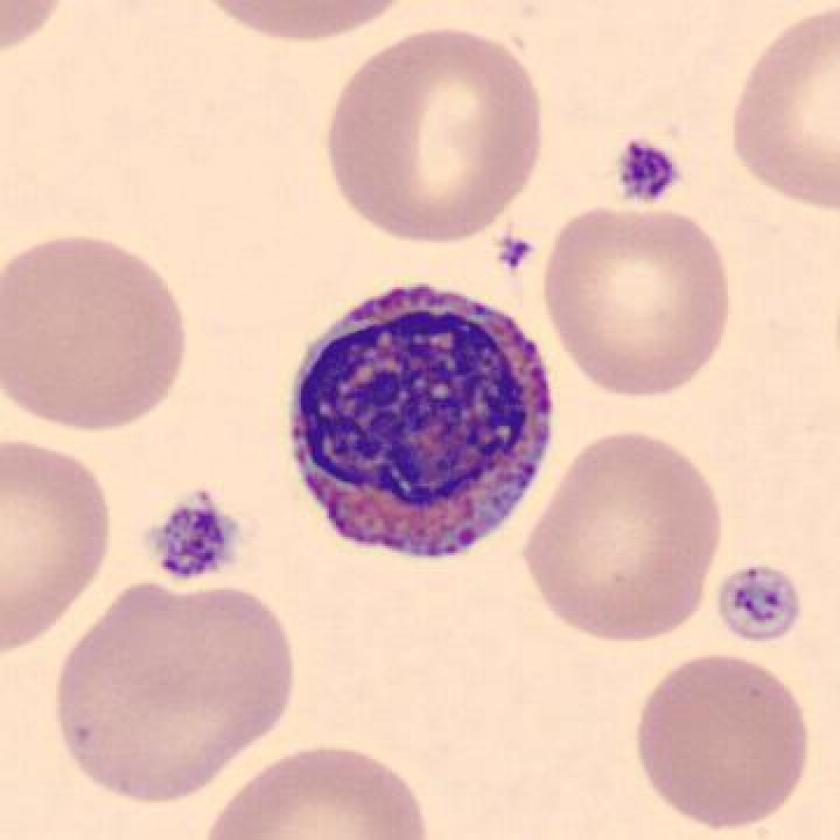eosinophil: (274, 269, 568, 582)
